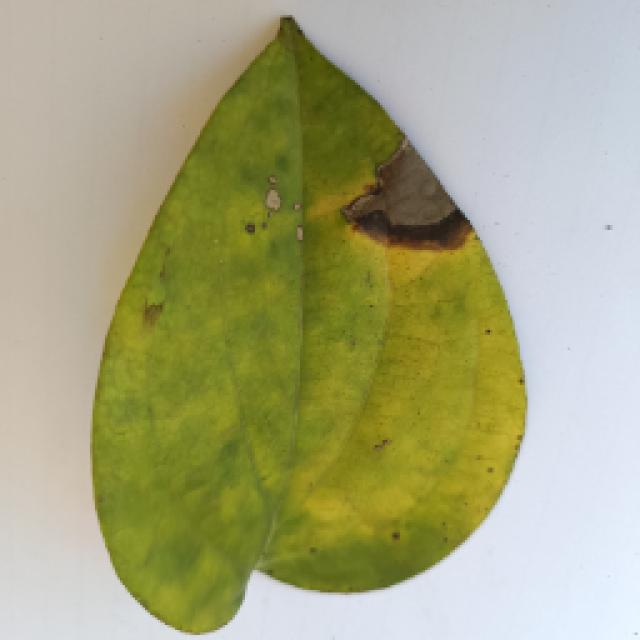slow-decline: (90, 18, 522, 630)
